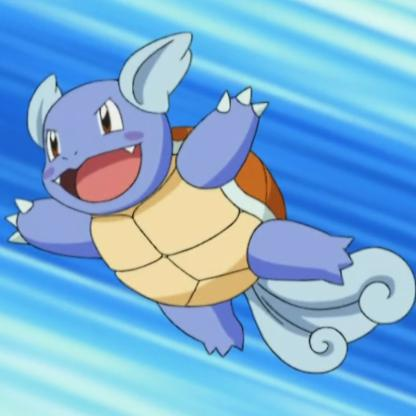Wartortle: (1, 31, 416, 388)
